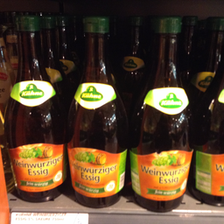vinegar: (131, 17, 195, 212), (6, 14, 71, 204), (68, 17, 127, 209), (197, 36, 224, 208)
